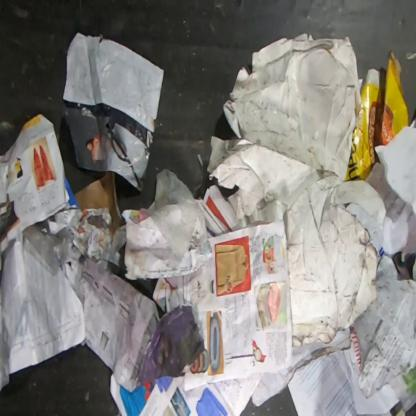cardboard: (206, 32, 385, 350), (344, 49, 409, 182), (74, 170, 126, 232)
soft_plastic: (24, 219, 72, 276)
